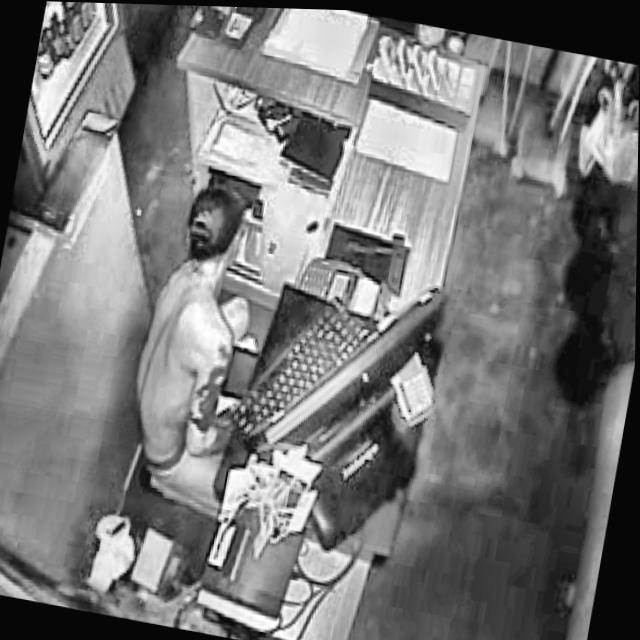burglary: (111, 169, 297, 529)
